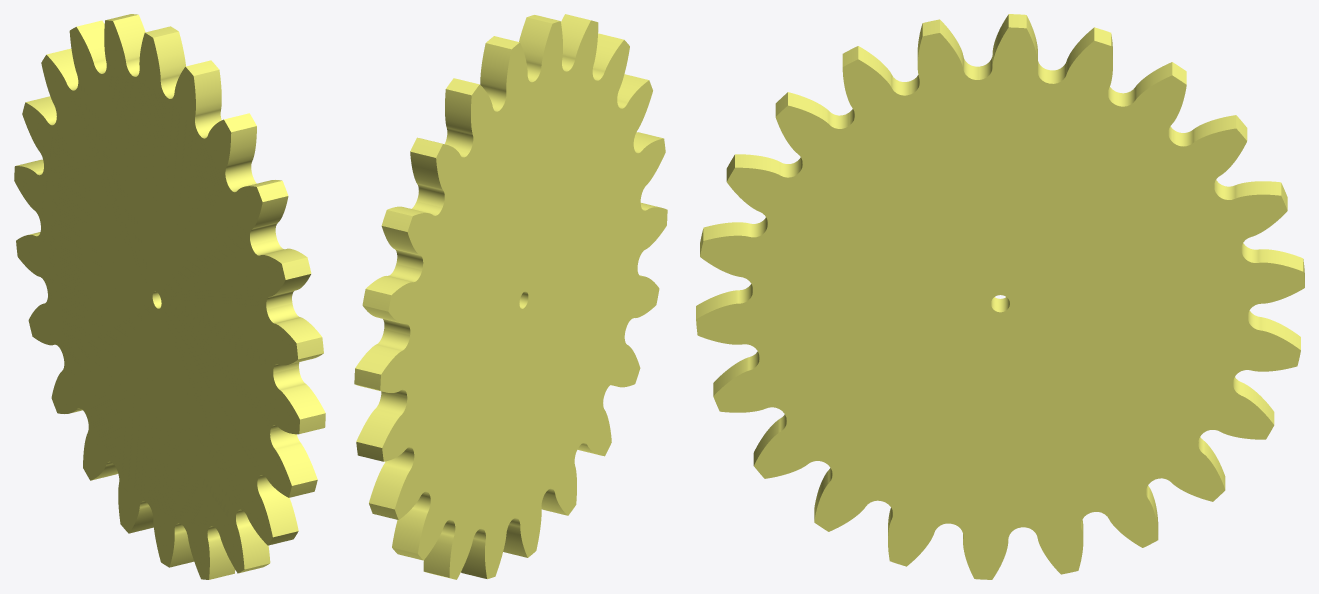
File: 10301_para_engranajes_1.gltf
3 views of the same model, side by side, from view 1: azimuth 30°, elevation 25°; view 2: azimuth 150°, elevation 25°; view 3: azimuth 270°, elevation 25° (orthographic). The views are drawn at different scales.
Visible parts, largest first — view 1: 2025_11_25_06_27_28_0545; view 2: 2025_11_25_06_27_28_0545; view 3: 2025_11_25_06_27_28_0545.
Part boxes in pixels (box(x1,y1,x2,y2)): 2025_11_25_06_27_28_0545: box(14, 14, 325, 579); 2025_11_25_06_27_28_0545: box(354, 14, 667, 579); 2025_11_25_06_27_28_0545: box(696, 14, 1304, 579).
Bounding box in the file's own units: 10 × 192 × 192.
